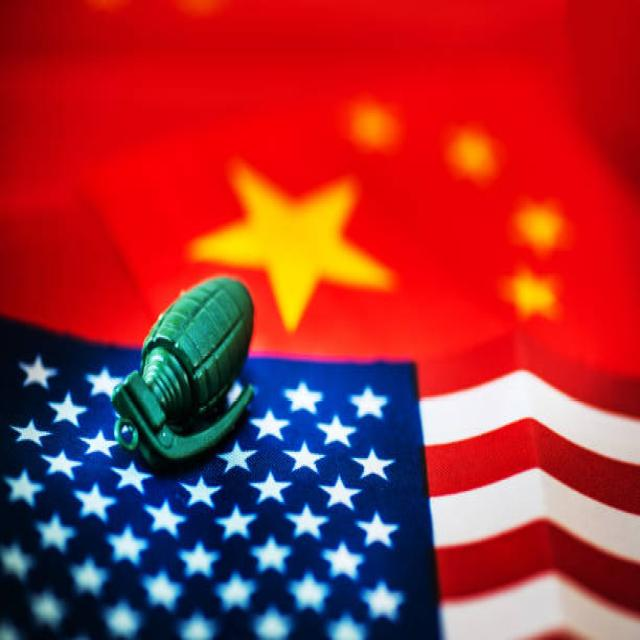grenade: (110, 273, 263, 473)
